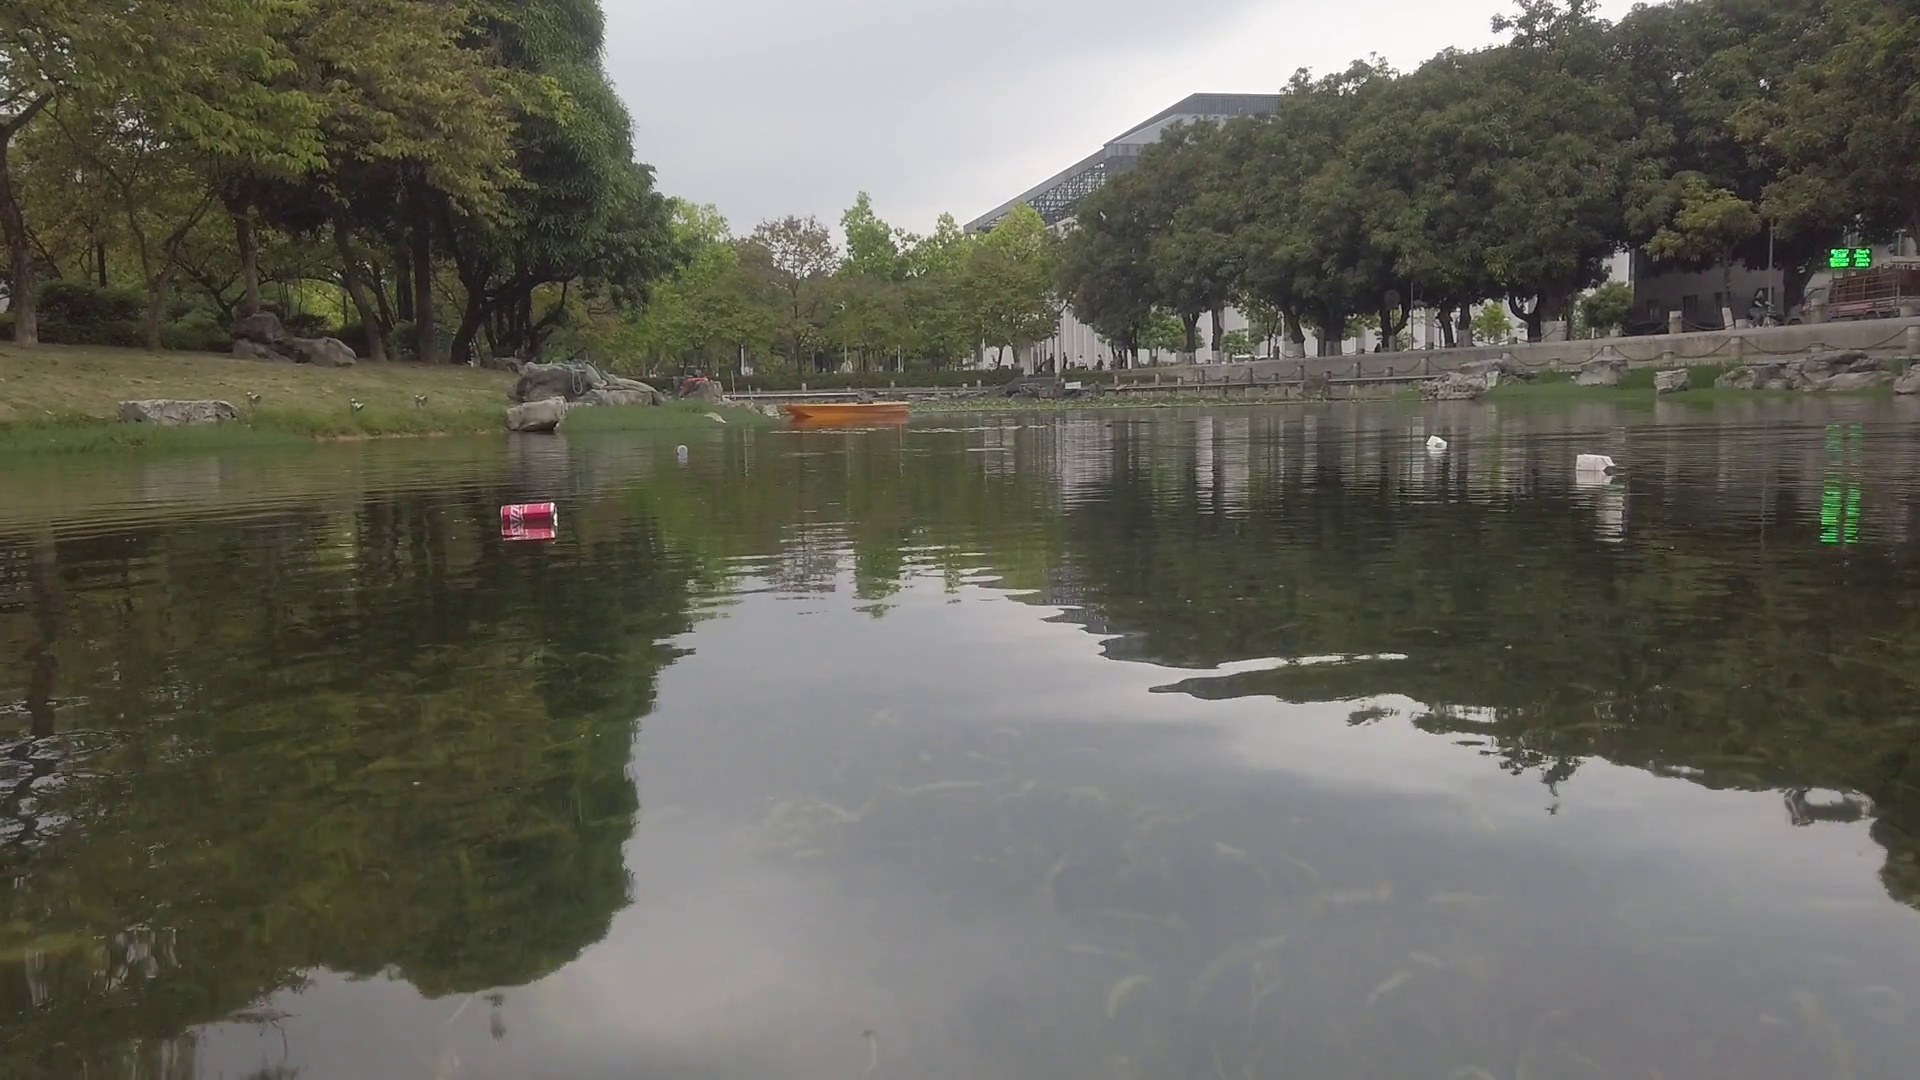bottle: (496, 502, 562, 524), (675, 440, 688, 459)
carton: (1575, 454, 1615, 472), (1424, 436, 1449, 451)
